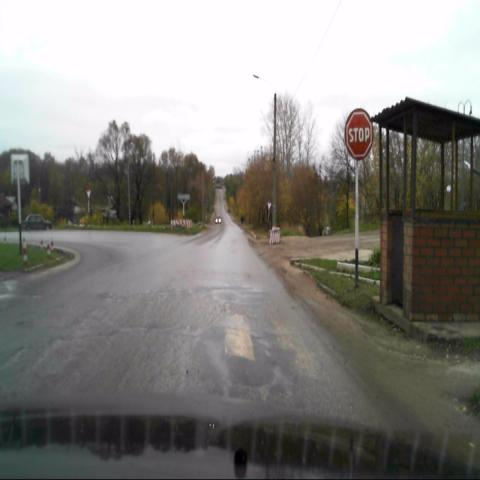2_5: (344, 108, 373, 159)
